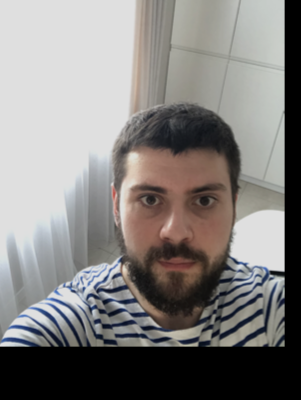without_mask: (122, 169, 234, 317)
